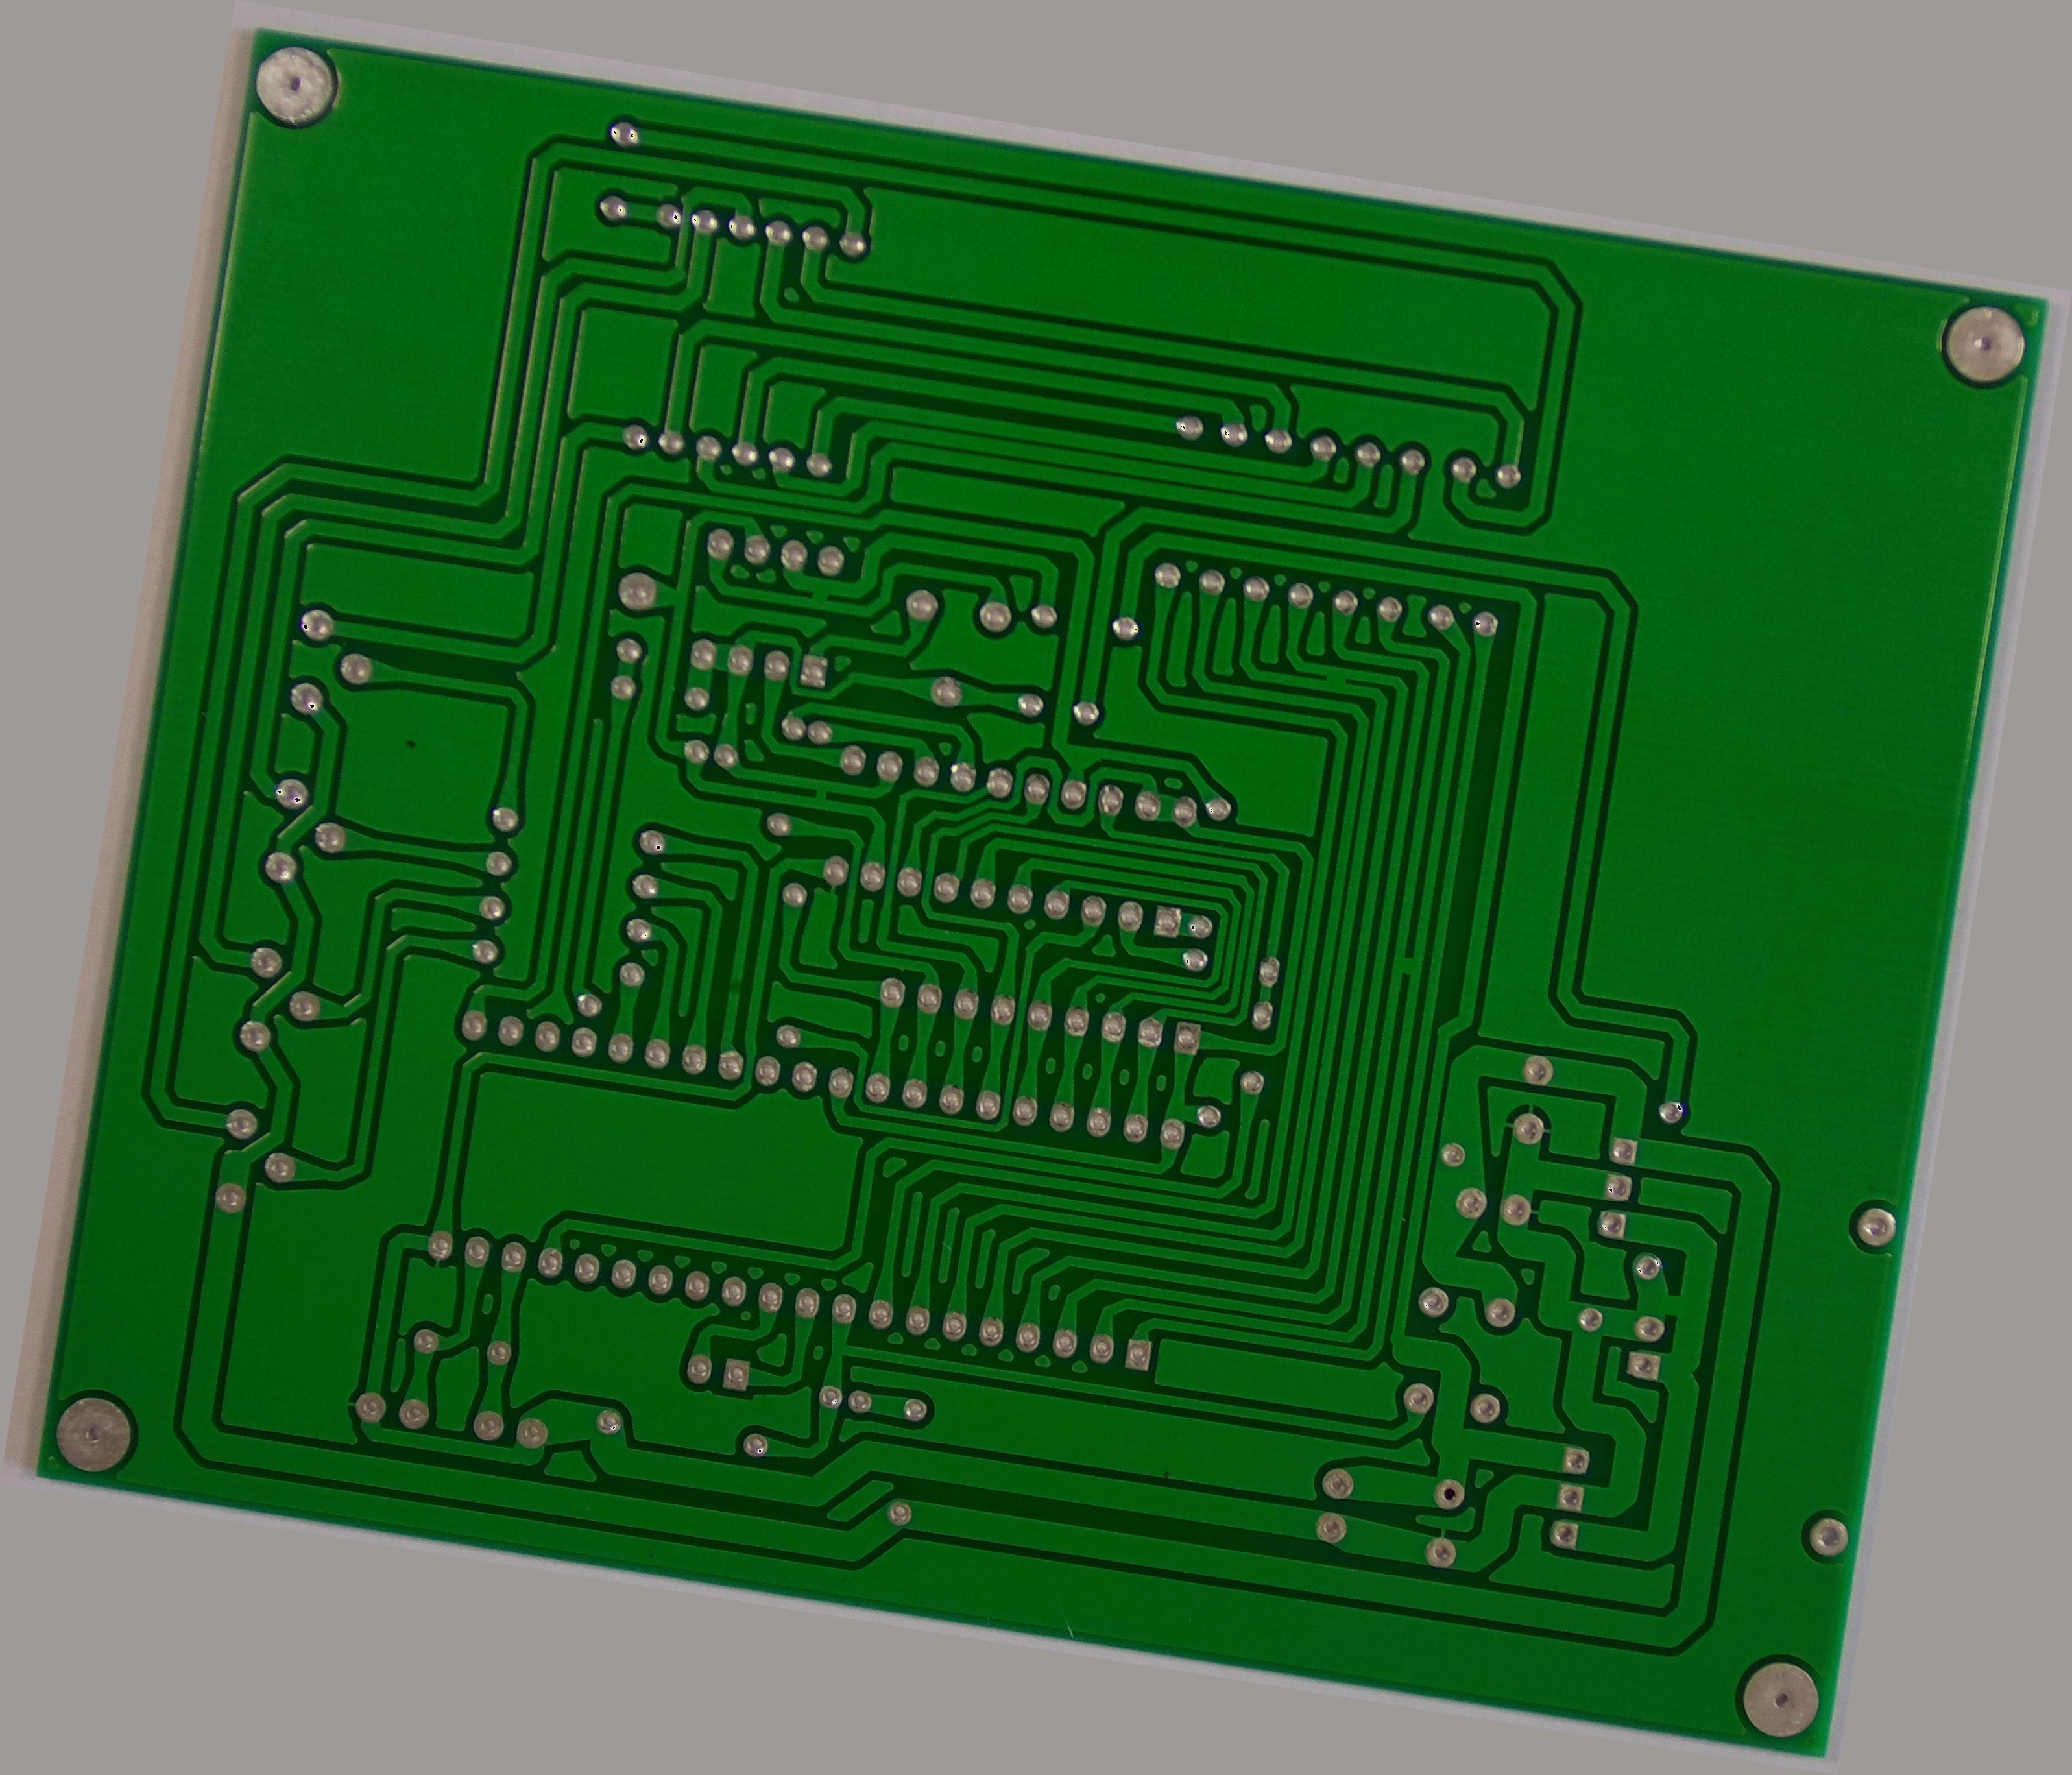short: (1641, 1275, 1701, 1331), (796, 571, 843, 615), (1387, 944, 1429, 988), (1313, 659, 1357, 697), (799, 777, 840, 814)
